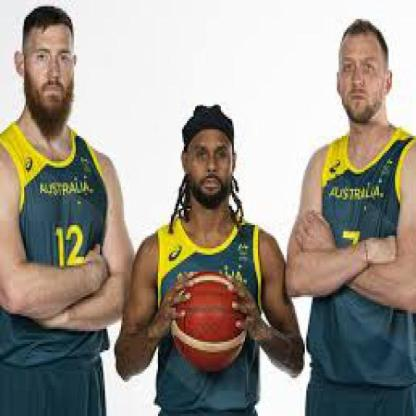basketball: (171, 272, 248, 371)
